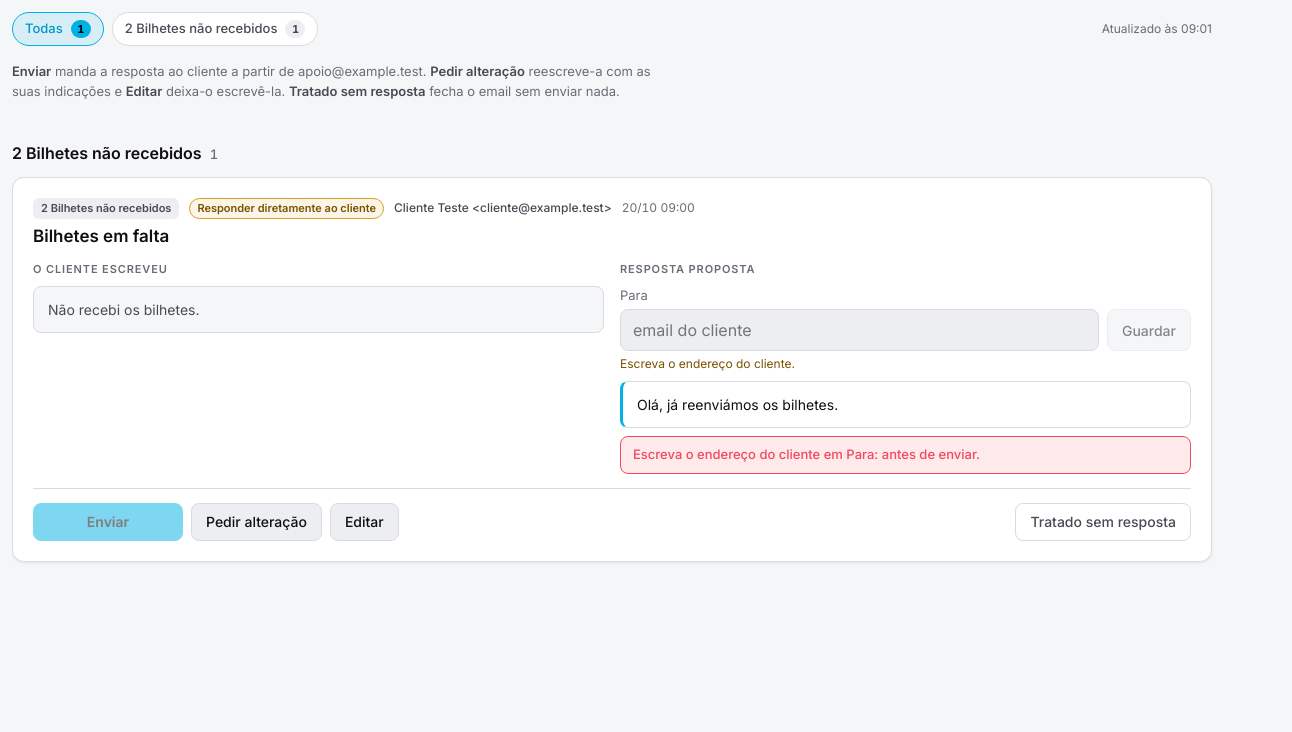
Drafts › saves the address in Para: of a relayed email as a new version
Type "rui@example.test" into the field labelled "Para" at (860, 330), box [620,309,1099,351]
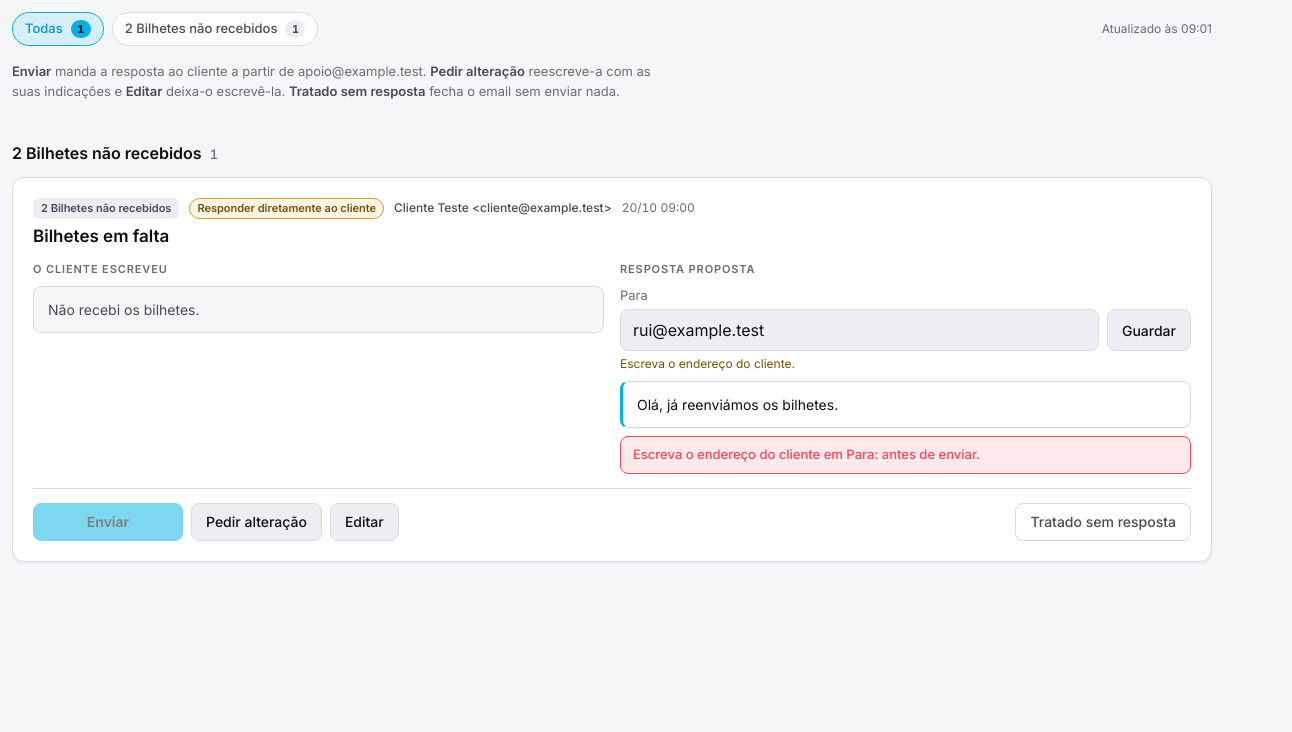
Click the button with aria-label "Guardar endereço" at (1149, 330), box [1107,309,1191,351]
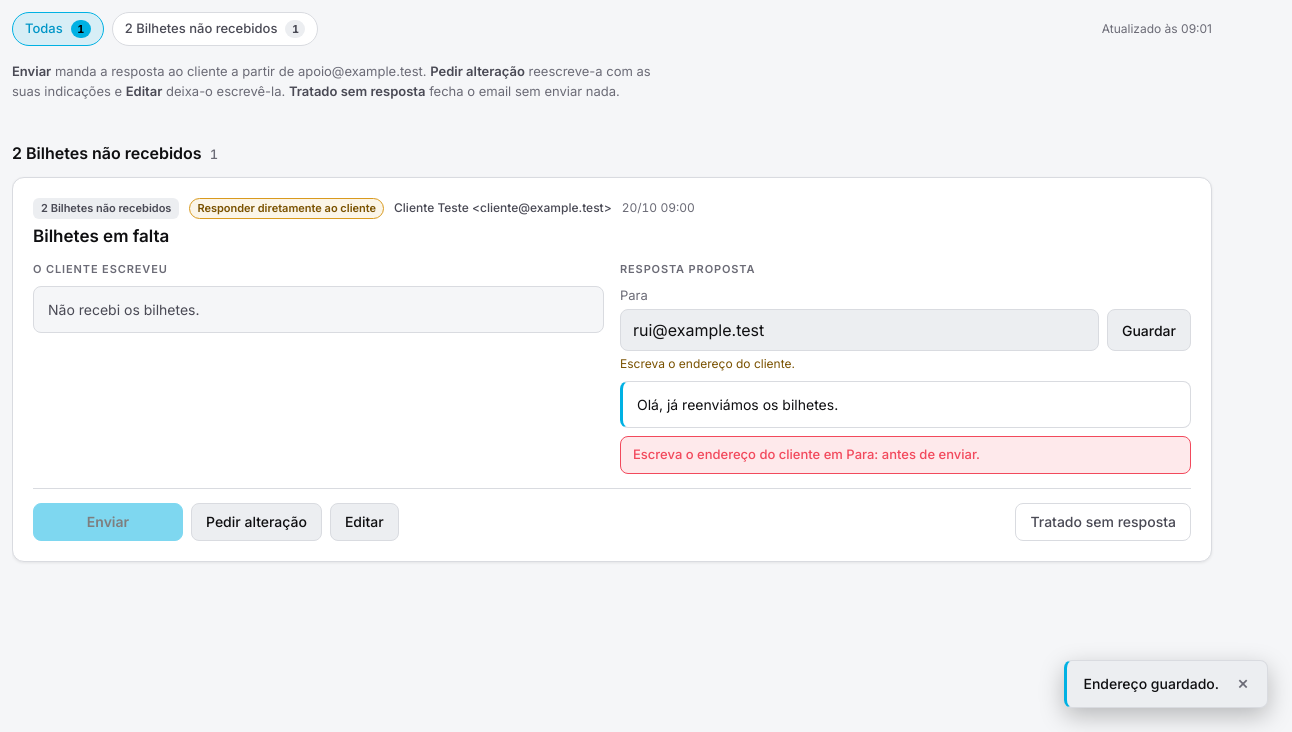
expect the text "Endereço guardado." is shown: met, box [1084,673,1219,694]
